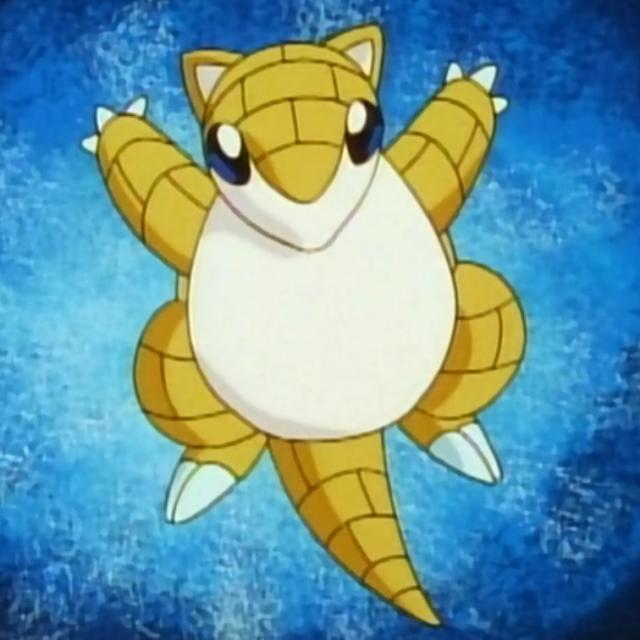Sandshrew: (125, 31, 517, 527)
